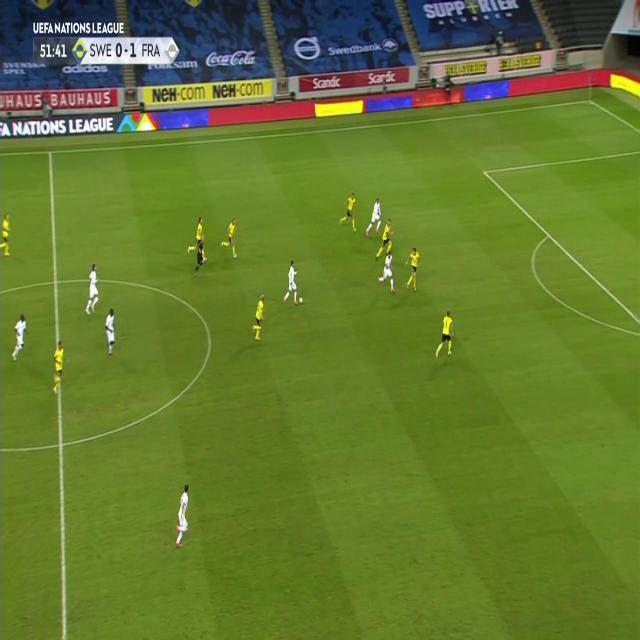ball: (298, 294, 304, 304)
player: (173, 484, 192, 548), (434, 308, 454, 360), (9, 311, 29, 362), (50, 338, 67, 396), (282, 258, 302, 306), (220, 215, 240, 259), (84, 263, 100, 316), (378, 247, 396, 293), (339, 190, 359, 231), (364, 195, 382, 238), (250, 294, 266, 342), (376, 217, 394, 259), (405, 246, 421, 292), (103, 306, 117, 356), (192, 234, 208, 274), (187, 216, 204, 253), (0, 212, 14, 256)
